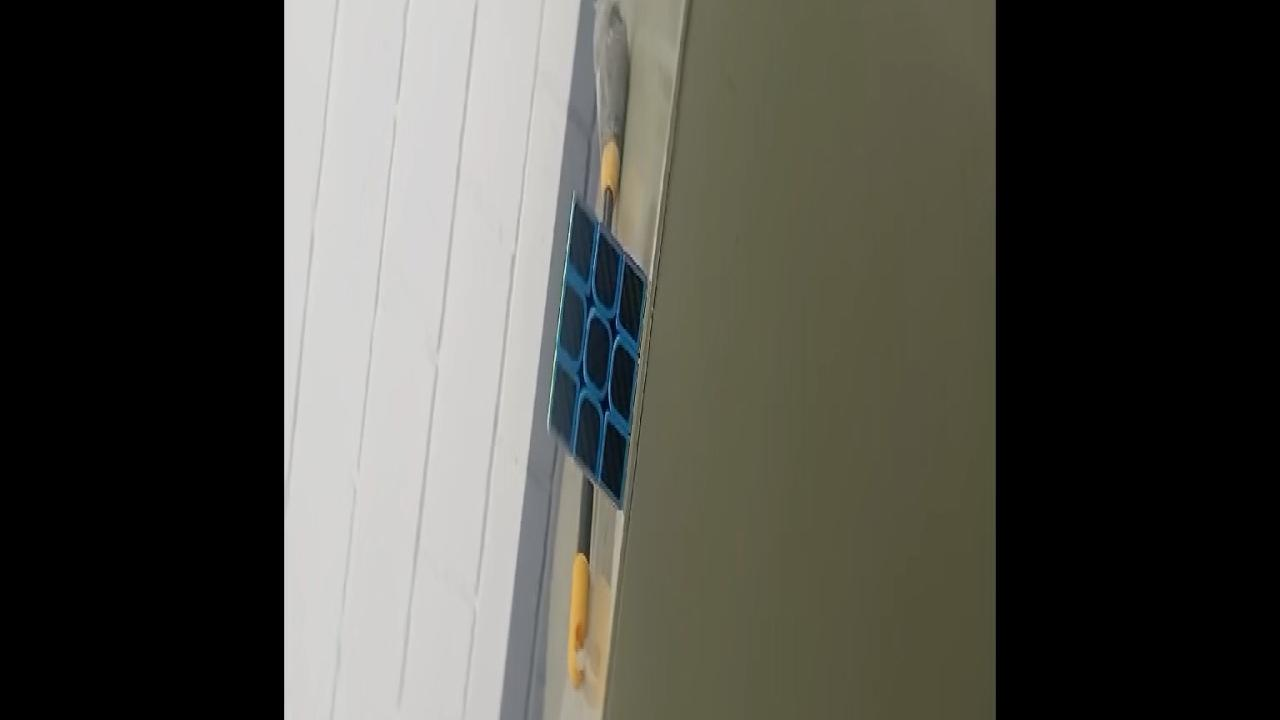Cube: (544, 189, 648, 515)
